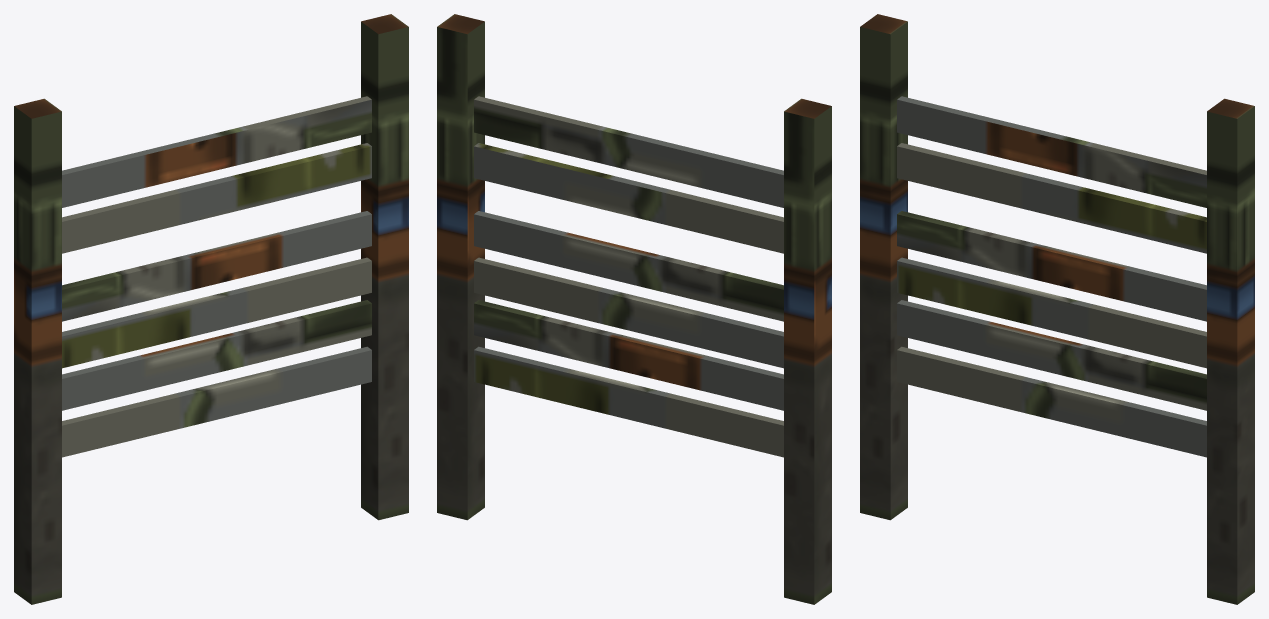
File: framework_03.FBX
3 views of the same model, side by side, from view 1: azimuth 30°, elevation 25°; view 2: azimuth 150°, elevation 25°; view 3: azimuth 330°, elevation 25° (orthographic).
Parts seen in each view (by area): view 1: framework_03; view 2: framework_03; view 3: framework_03.
Boxes of the visible parts, x1,y1,x2,y2 form: framework_03: (14, 14, 408, 604); framework_03: (437, 14, 831, 604); framework_03: (860, 14, 1254, 604).
Bounding box in the file's own units: 374 × 461 × 30.18.
1 material, 1 textured.
